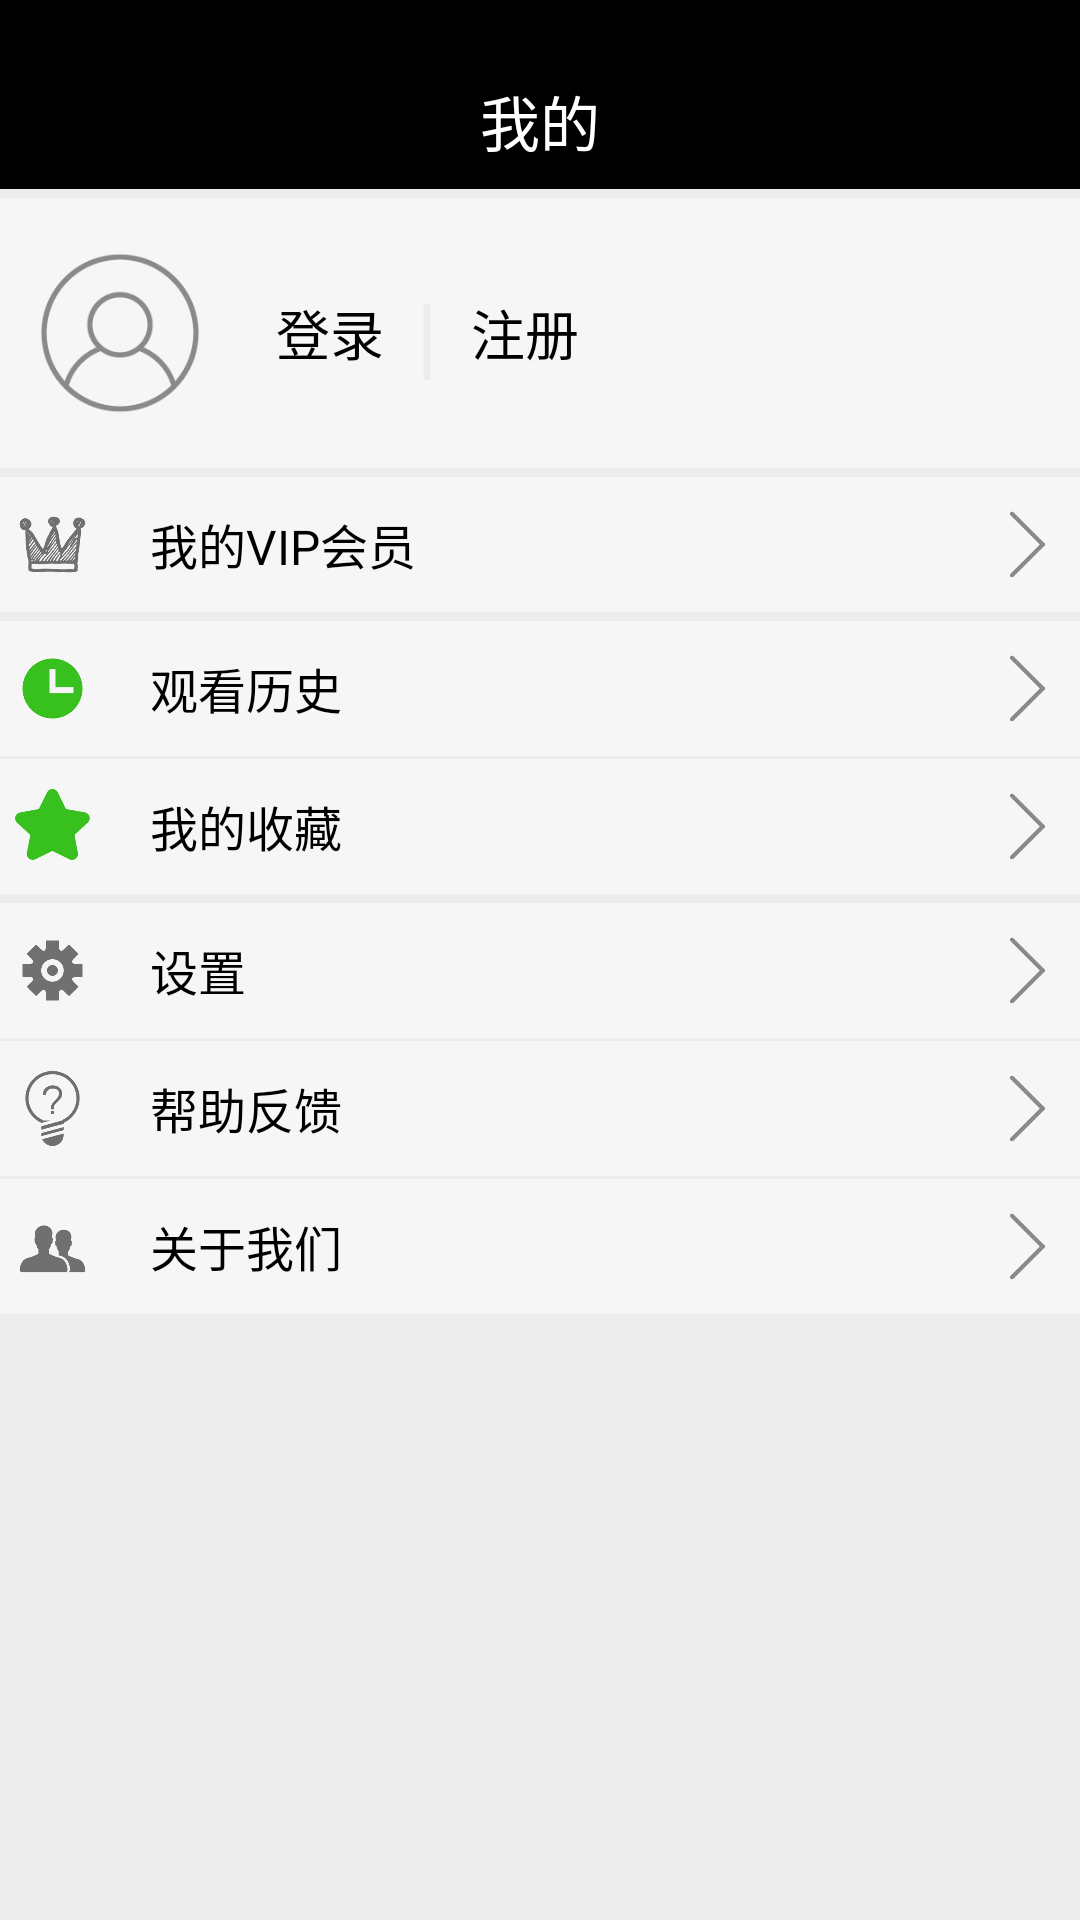

Locate icon controls on the screen. Image size 1080*1920, boxes as (x1, y1, x2, y2).
favorite: (15, 789, 90, 860)
help: (25, 1071, 80, 1146)
history: (22, 658, 83, 719)
rightdir: (1010, 512, 1045, 577), (1010, 656, 1045, 721), (1010, 794, 1045, 859), (1010, 938, 1045, 1003), (1010, 1076, 1045, 1141), (1010, 1214, 1045, 1279)
setting: (22, 940, 83, 1001)
userlog: (41, 254, 199, 412)
vip: (20, 516, 85, 573)
